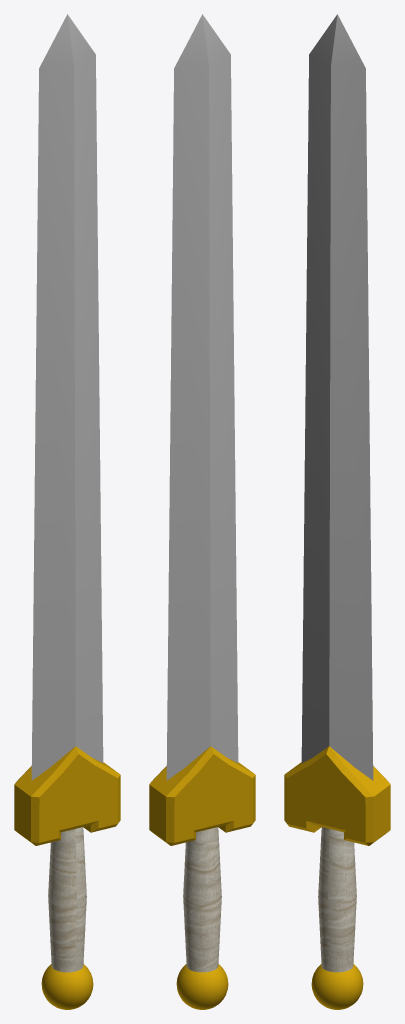
The model's file is jian sword.fbx.
The picture shows the model from 3 angles, left to right: view 1: azimuth 30°, elevation 25°; view 2: azimuth 210°, elevation 25°; view 3: azimuth 330°, elevation 25°; orthographic projection.
Parts seen in each view (by area): view 1: Jian; view 2: Jian; view 3: Jian.
Part boxes in pixels (x1,y1,x2,y2): Jian: (14, 14, 120, 1009); Jian: (149, 14, 255, 1009); Jian: (284, 14, 390, 1009).
Bounding box in the file's own units: 19.57 × 207 × 9.78.
